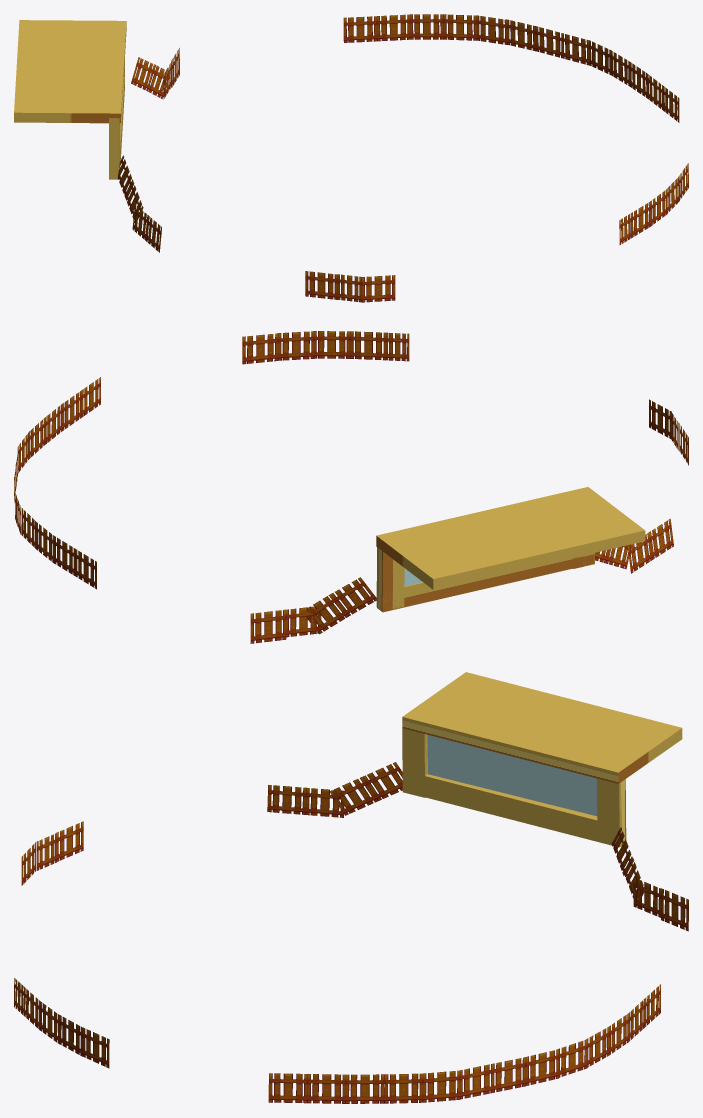
The model's file is NewAdditions.fbx.
The picture shows the model from 3 angles, top to bottom: view 1: azimuth 30°, elevation 25°; view 2: azimuth 150°, elevation 25°; view 3: azimuth 270°, elevation 25°; orthographic projection. The views are drawn at different scales.
Parts seen in each view (by area): view 1: pCube48, pPlane10, pPlane8, pPlane15, pPlane17, pPlane18, pPlane16, pPlane19, pCube46, pPlane21, pPlane20, pPlane22 (+5 smaller); view 2: pCube48, pCube45, pCube47, pPlane14, pPlane29, pPlane28, pPlane30, pPlane31, pPlane13, pPlane12, pPlane11, pPlane7 (+8 smaller); view 3: pCube48, pCube49, pCube45, pCube47, pCube46, pPlane24, pPlane25, pPlane27, pPlane23, pPlane26, pPlane7, pPlane5 (+11 smaller).
Part boxes in pixels (<box>): pCube48: <box>14,20,126,123</box>; pPlane10: <box>361,275,395,302</box>; pPlane8: <box>305,271,337,299</box>; pPlane15: <box>343,16,377,42</box>; pPlane17: <box>410,14,443,39</box>; pPlane18: <box>443,14,476,40</box>; pPlane16: <box>377,14,410,41</box>; pPlane19: <box>476,15,507,44</box>; pCube46: <box>109,118,120,179</box>; pPlane21: <box>535,26,563,58</box>; pPlane20: <box>506,19,535,51</box>; pPlane22: <box>561,34,589,65</box>; pCube48: <box>376,487,645,589</box>; pCube45: <box>377,553,594,612</box>; pCube47: <box>376,547,404,611</box>; pPlane14: <box>250,609,286,643</box>; pPlane29: <box>278,331,314,360</box>; pPlane28: <box>242,333,278,364</box>; pPlane30: <box>313,331,350,358</box>; pPlane31: <box>350,331,386,360</box>; pPlane13: <box>332,577,376,615</box>; pPlane12: <box>307,593,348,634</box>; pPlane11: <box>286,606,321,637</box>; pPlane7: <box>649,518,673,559</box>; pCube48: <box>402,672,682,783</box>; pCube49: <box>427,735,597,816</box>; pCube45: <box>403,771,621,847</box>; pCube47: <box>597,778,626,846</box>; pCube46: <box>402,728,427,797</box>; pPlane24: <box>384,1073,423,1103</box>; pPlane25: <box>345,1074,384,1103</box>; pPlane27: <box>268,1073,307,1103</box>; pPlane23: <box>422,1070,460,1102</box>; pPlane26: <box>307,1074,345,1103</box>; pPlane7: <box>267,785,306,814</box>; pPlane5: <box>329,777,378,815</box>.
Bounding box in the file's own units: 3835 × 609 × 3335.
